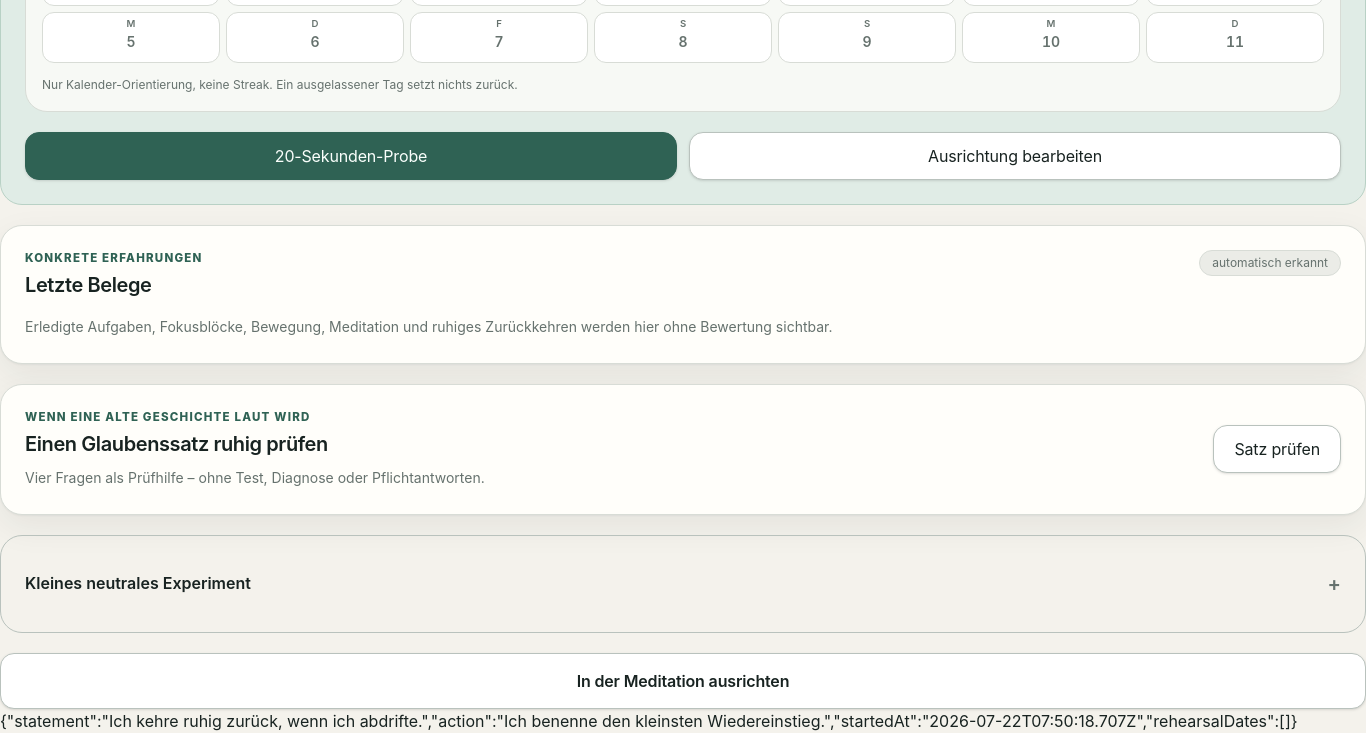
Test: Identitäts-Kompass › speichert eine optionale Neurahmung, ohne die vier Prüffragen abzufragen
The image size is (1366, 733).
(page scrolled)
Click the button "Satz prüfen" at (1277, 449), box [1213,425,1341,473]
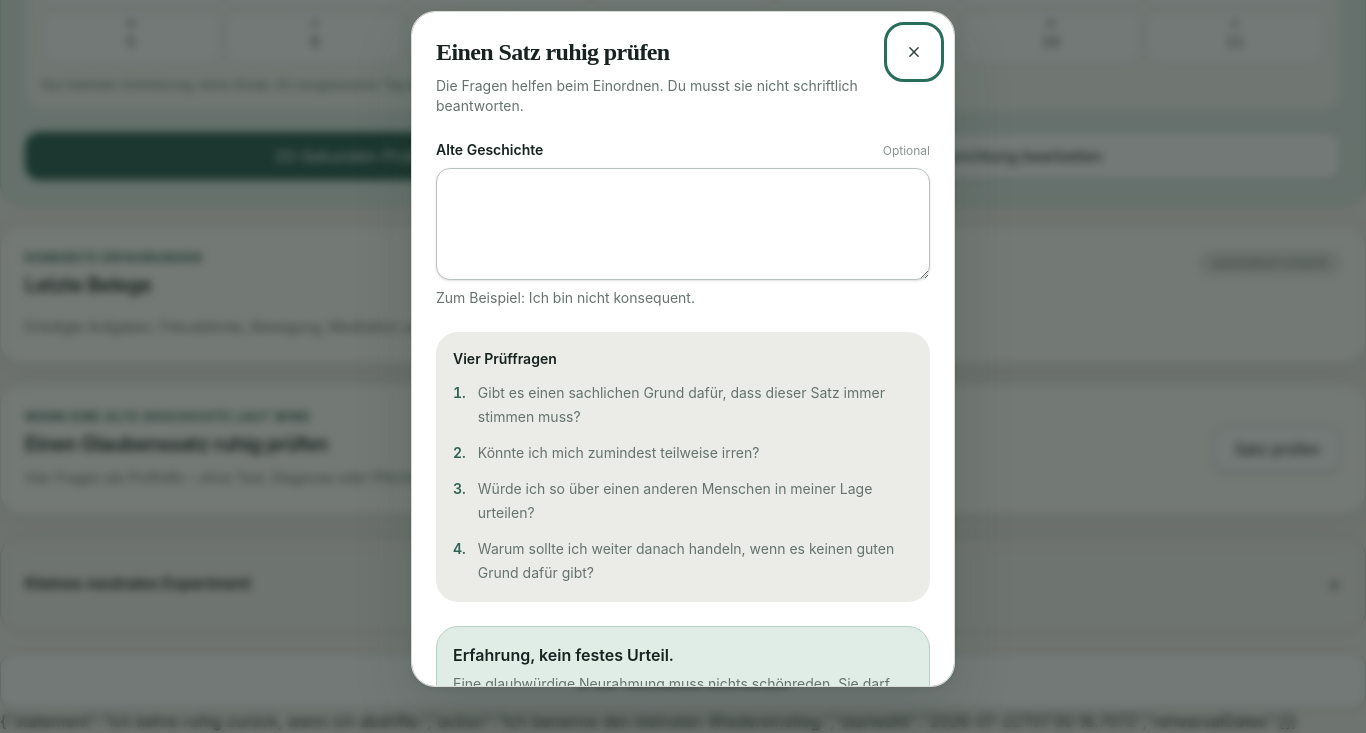
Now the text "Vier Prüffragen" is shown, box [453,350,557,367]
Type "Ich breche immer ab." into the text box labelled "Alte Geschichte" at (683, 224), box [436,168,930,280]
(page scrolled)
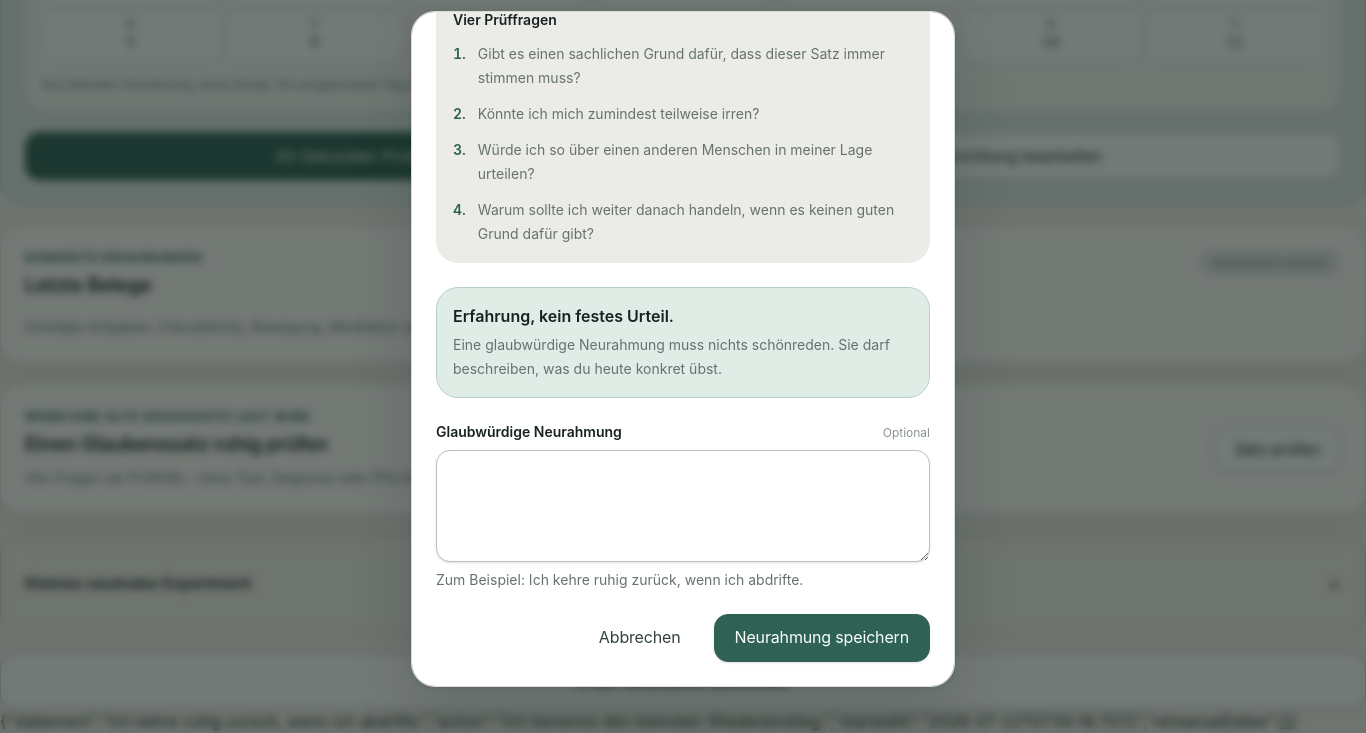
Type "Abbrechen war eine Erfahrung; heute beginne ich erneut." into the text box labelled "Glaubwürdige Neurahmung" at (683, 506), box [436,450,930,562]
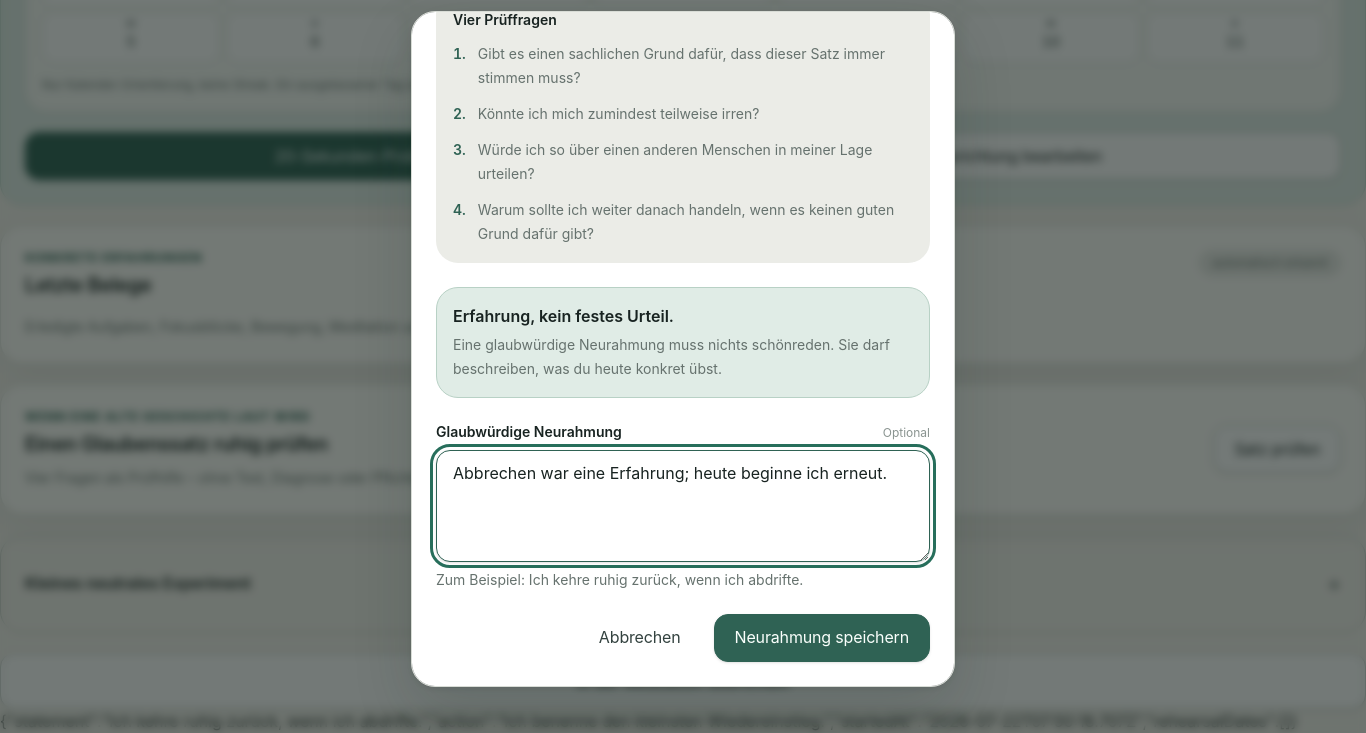
Click the button "Neurahmung speichern" at (822, 638), box [714,614,930,662]
(page scrolled)
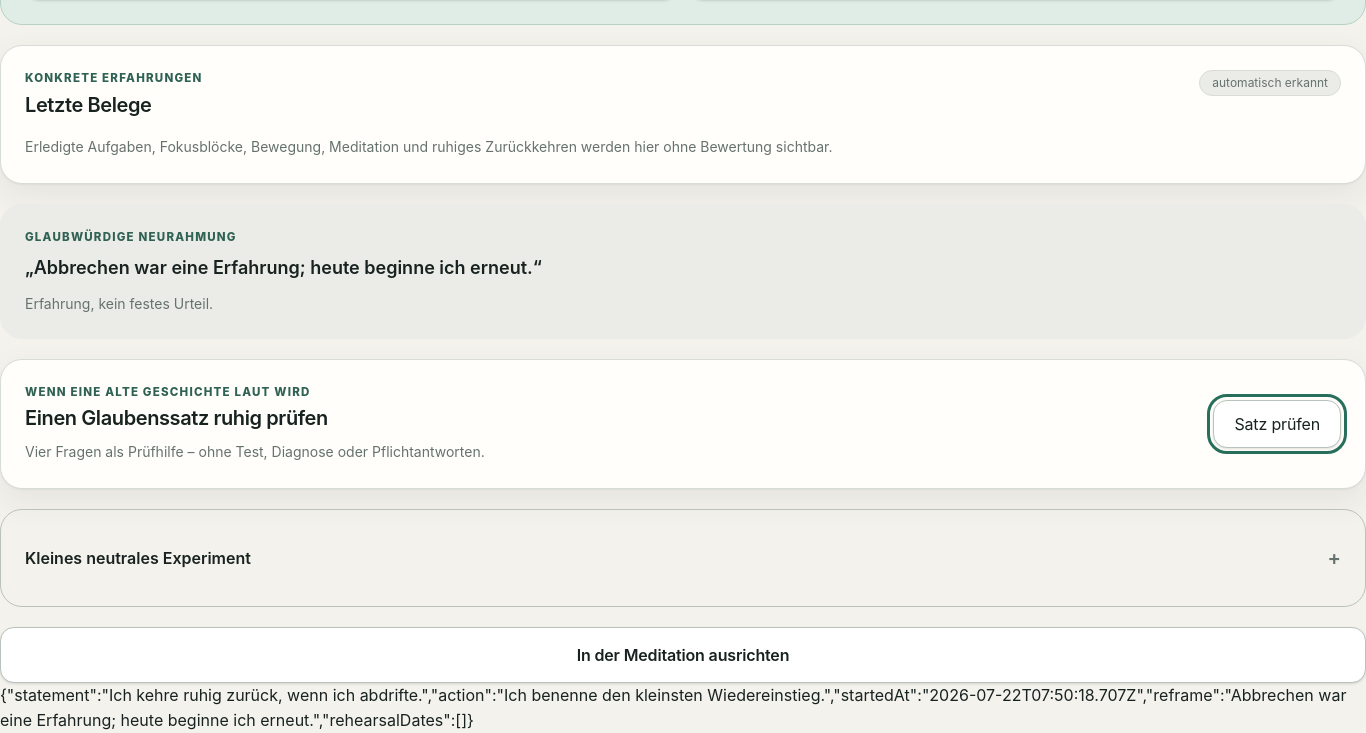
Expected: the text named "Gespeicherte Identität" does not show "Ich breche immer ab.", [0,685,1346,730]
Now the text "„Abbrechen war eine Erfahrung; heute beginne ich erneut.“" is shown, box [25,257,542,278]
